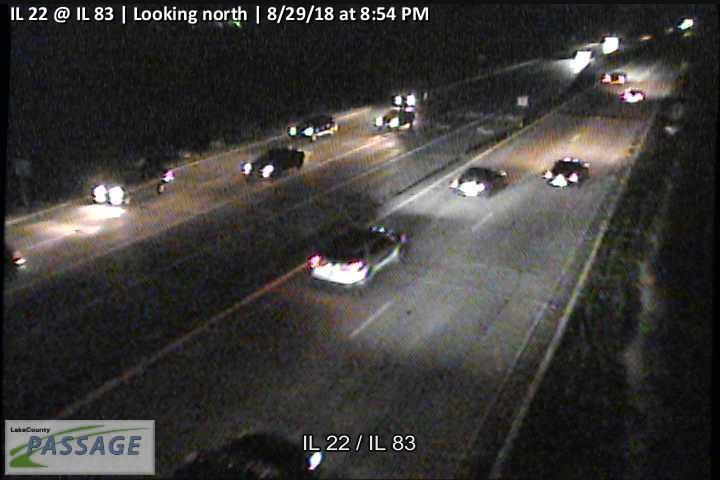SUV: (307, 223, 409, 289), (289, 114, 339, 141)
Sedan: (94, 162, 175, 203), (245, 146, 304, 179), (451, 166, 506, 198), (545, 159, 590, 188), (376, 108, 415, 128)
